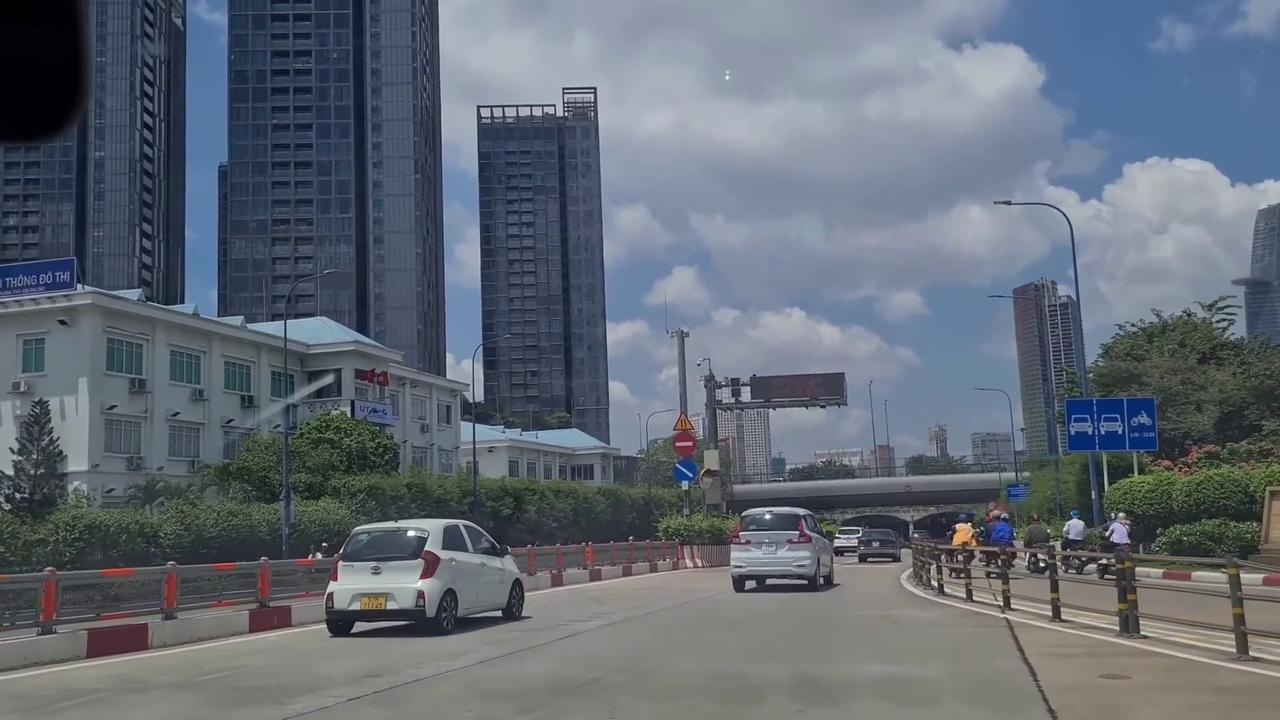Cấm đi ngược chiều: (670, 428, 698, 458)
Hướng phải đi vòng sang phải: (672, 458, 698, 483)
Làn đường cho từng xe: (1062, 396, 1161, 452)
Đuờng hẹp: (671, 410, 695, 431)
